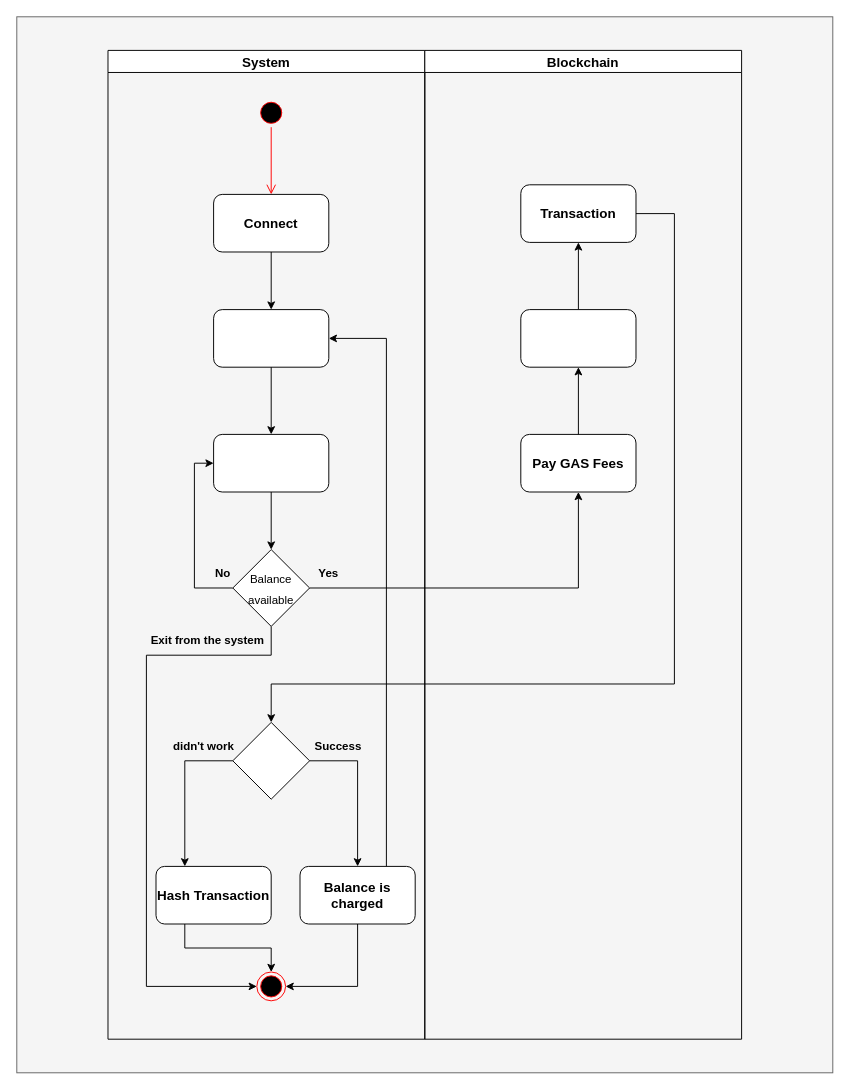
Image size: 850x1090. Some labels were removed from this diagram. Here are the shapes that lost their labels. From the top down, the centre of each, then its label:
At point (271, 338): "Create New Order".
At point (578, 338): "Processing".
At point (271, 462): "Payment".
At point (271, 760): "Status Code".
